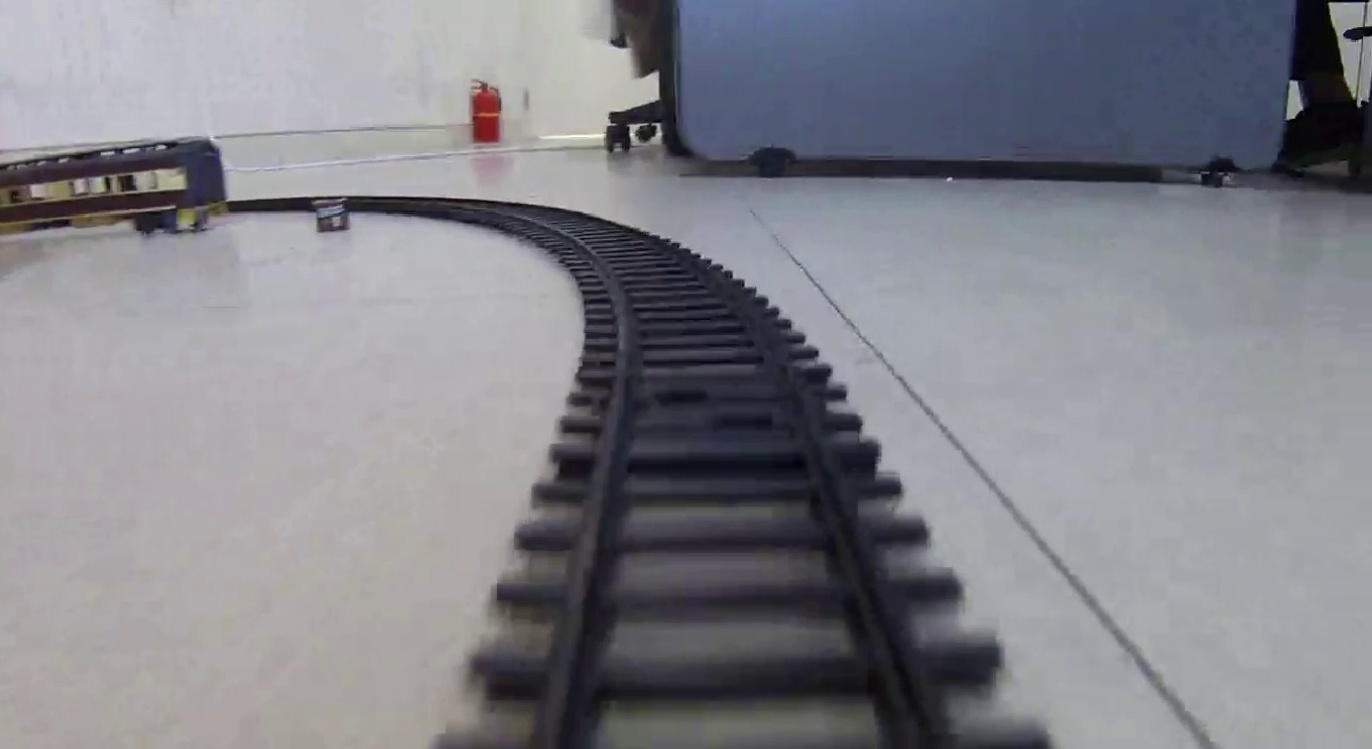box: (310, 195, 352, 234)
